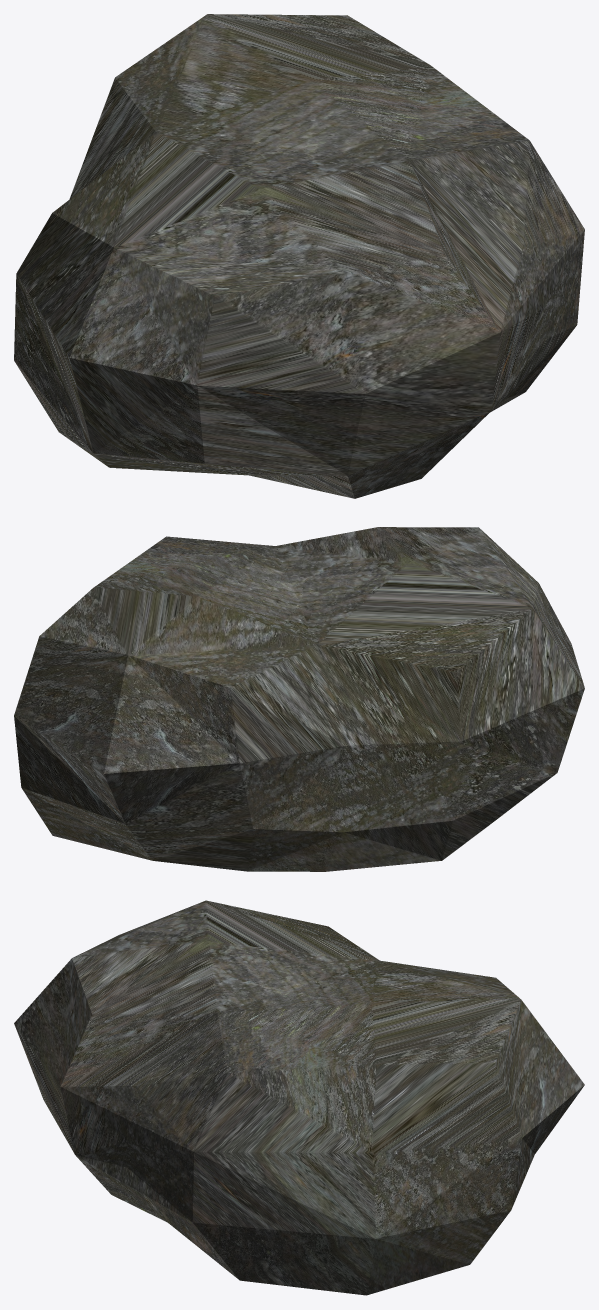
File: rock_04.obj
3 renders of one model, top to bottom at view 1: azimuth 30°, elevation 25°; view 2: azimuth 150°, elevation 25°; view 3: azimuth 270°, elevation 25°, orthographic. The views are drawn at different scales.
Parts seen in each view (by area): view 1: rock; view 2: rock; view 3: rock.
Boxes of the visible parts, x1,y1,x2,y2 form: rock: (14,14,584,498); rock: (14,527,584,871); rock: (14,900,584,1295).
Size of the model in its own units: 0.8933 by 0.4999 by 1.
Materials: 1 (1 with a texture image).
